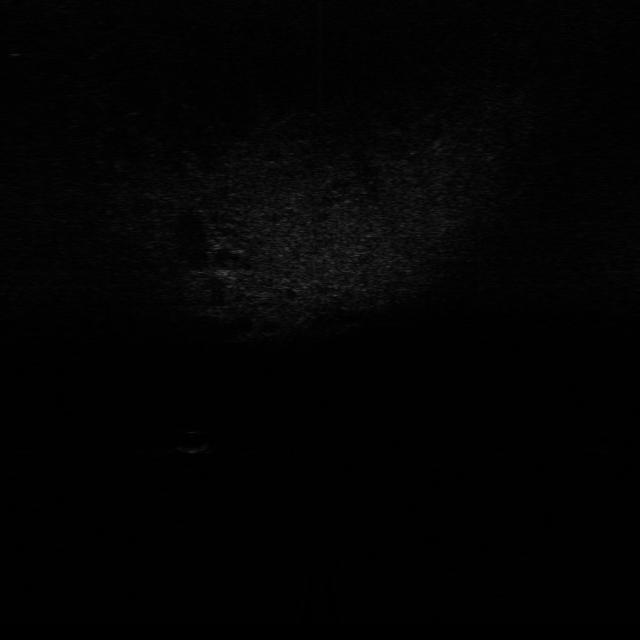ball: (172, 427, 214, 455)
